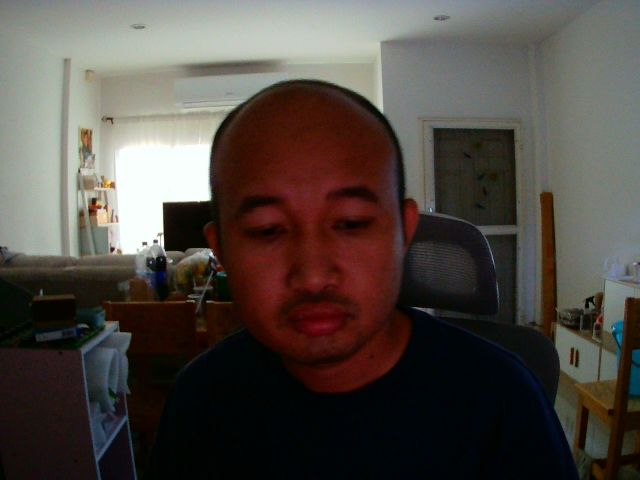face: (199, 75, 406, 366)
